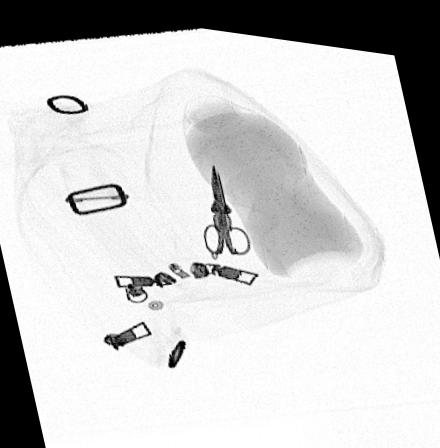Scissors: (200, 156, 250, 249)
